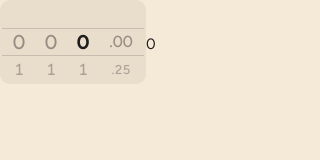
DigitScrollPicker › counts in exact quarters — no floating-point crumbs
The image size is (320, 160).
Click the number field named "fraction of grams" at (121, 42), box [109,32,133,77]
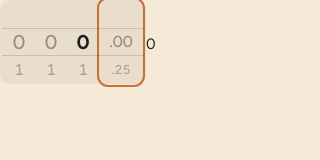
Press Arrowup Arrowup Arrowup
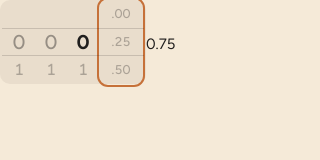
Expected: the text with test id "value" reads "0.75", [146,35,175,53]
